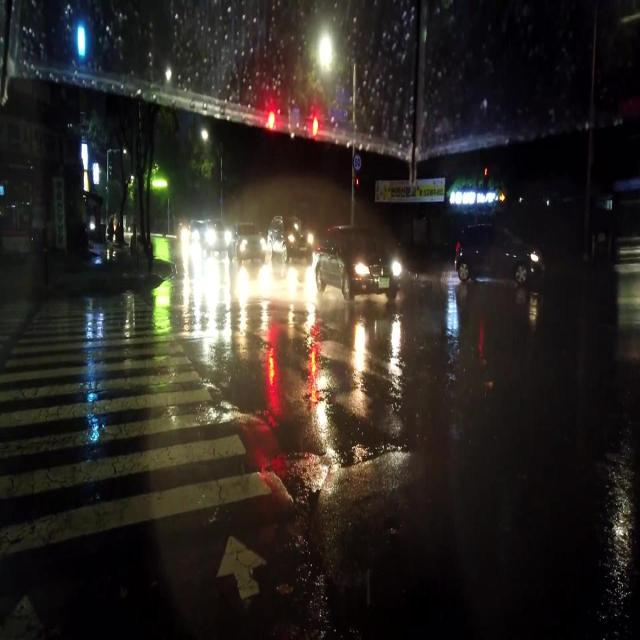Car: (317, 221, 398, 303), (452, 223, 542, 294), (267, 215, 312, 261), (227, 220, 266, 264), (201, 218, 234, 252)
